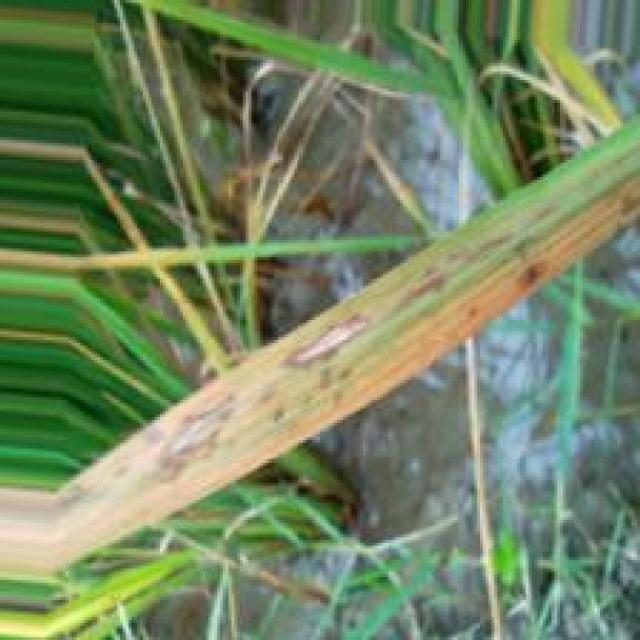Narrow_Brown_Leaf_Spot: (3, 166, 640, 577)
